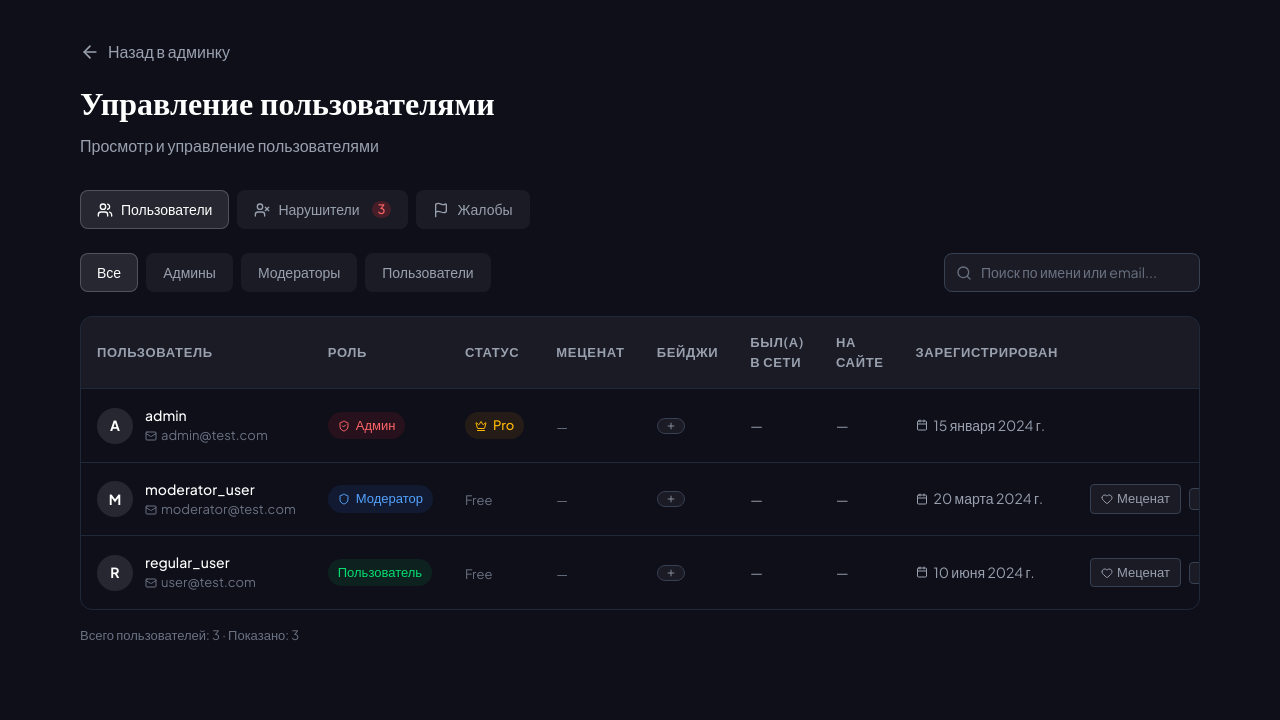
Test: AdminUsersPage › должен искать пользователей
Expected: the link "admin" is shown, left=145, top=406, right=187, bottom=424
Type "moderator" into the field with placeholder "Поиск по имени или email..." at (1072, 273), box left=944, top=253, right=1200, bottom=292
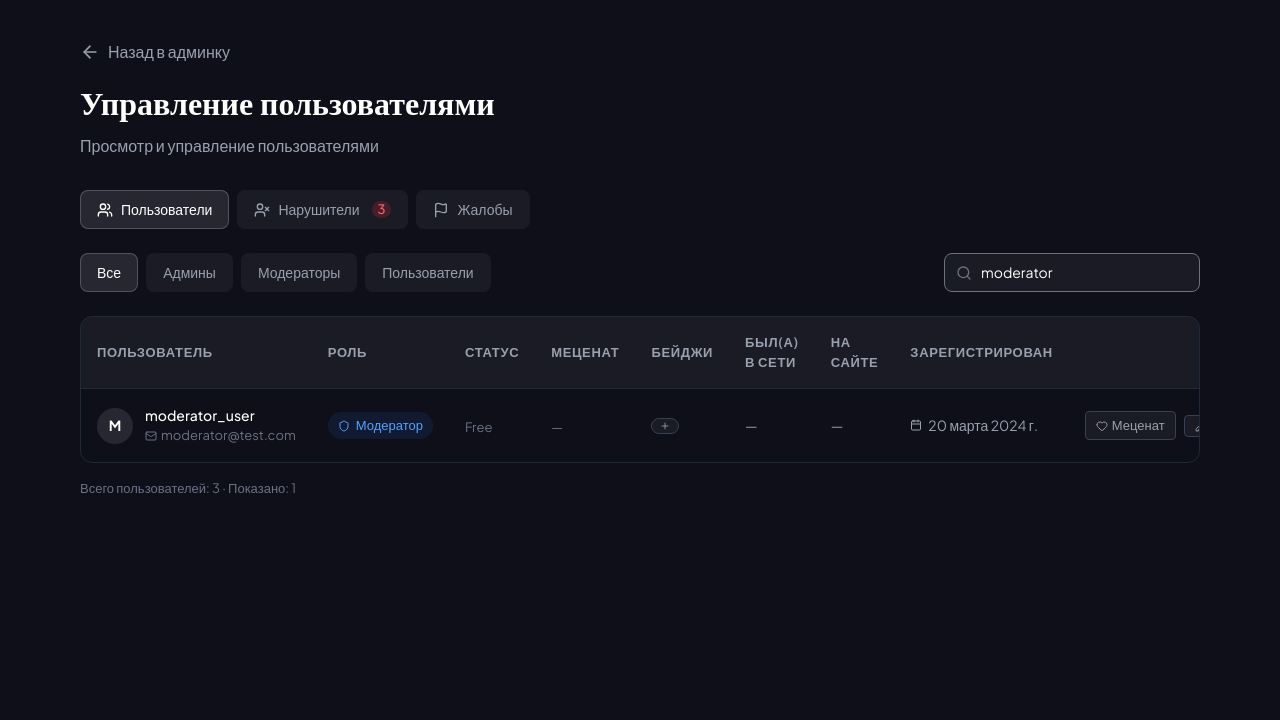
Expected: the link "moderator_user" is shown, left=145, top=406, right=255, bottom=424
Expected: the link "admin" is gone
